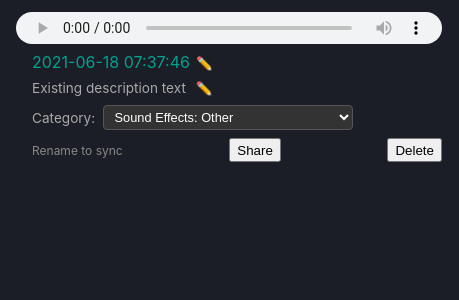
Scenario: Recording component › Inline description editing › textarea is pre-filled with existing description
This screenshot has width=459, height=300.
Click the button named "click to edit description" at coordinates (204, 88), box [190,80,218,97]
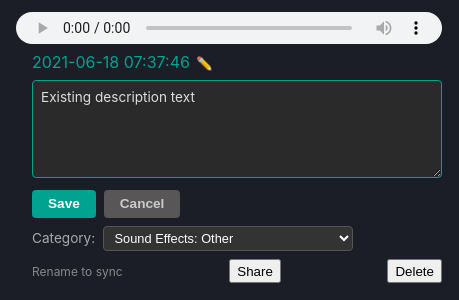
expect the text box holds "Existing description text": met, box [32,80,442,178]
